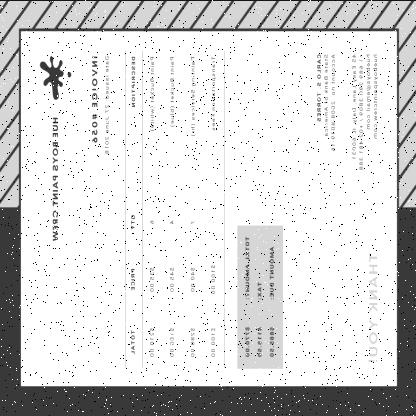Paragraph: (240, 230, 277, 364), (349, 49, 381, 174), (313, 48, 339, 154), (87, 52, 113, 156), (364, 247, 382, 367), (49, 112, 61, 244)
Table: (124, 50, 224, 368)
